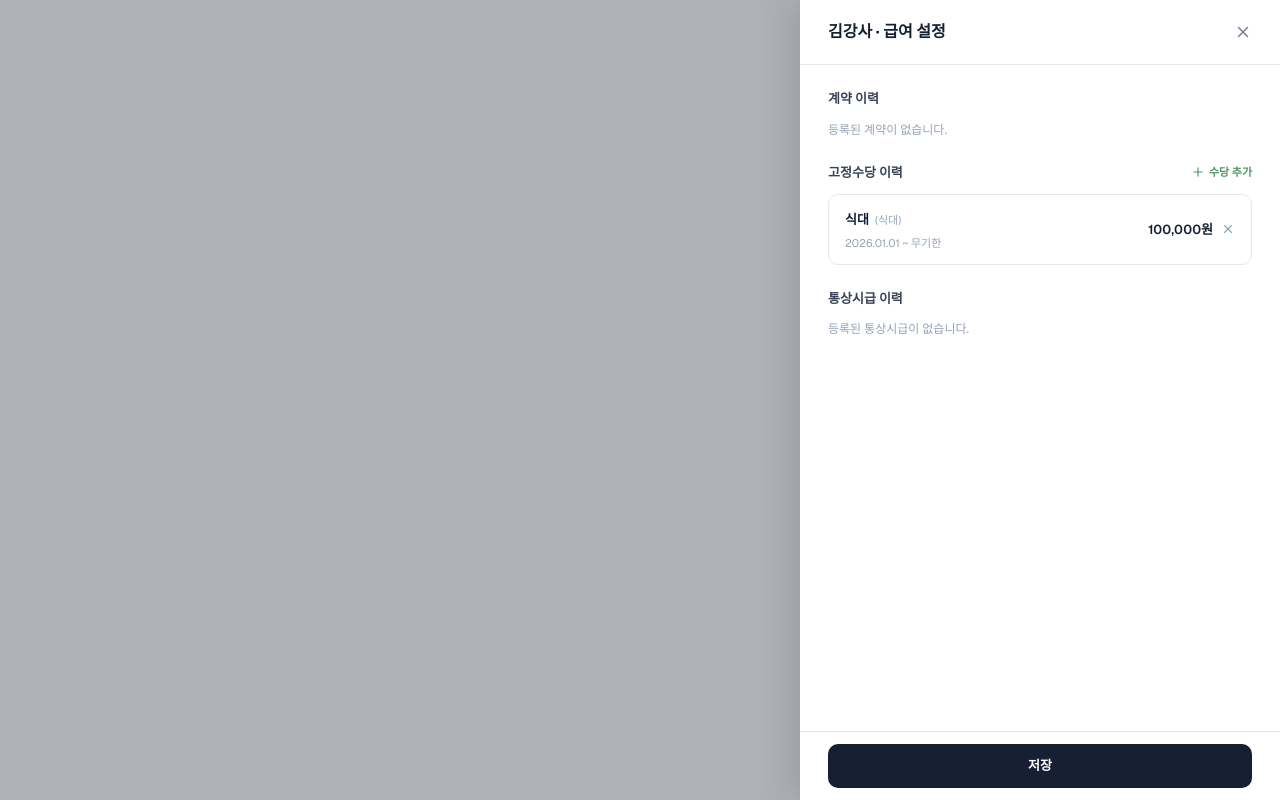
Scenario: PayrollCompensationDetail › 수당명과 금액을 입력하고 추가하면 목록에 새 수당이 노출된다
Click the button "수당 추가" at (1221, 172), box [1191,164,1252,180]
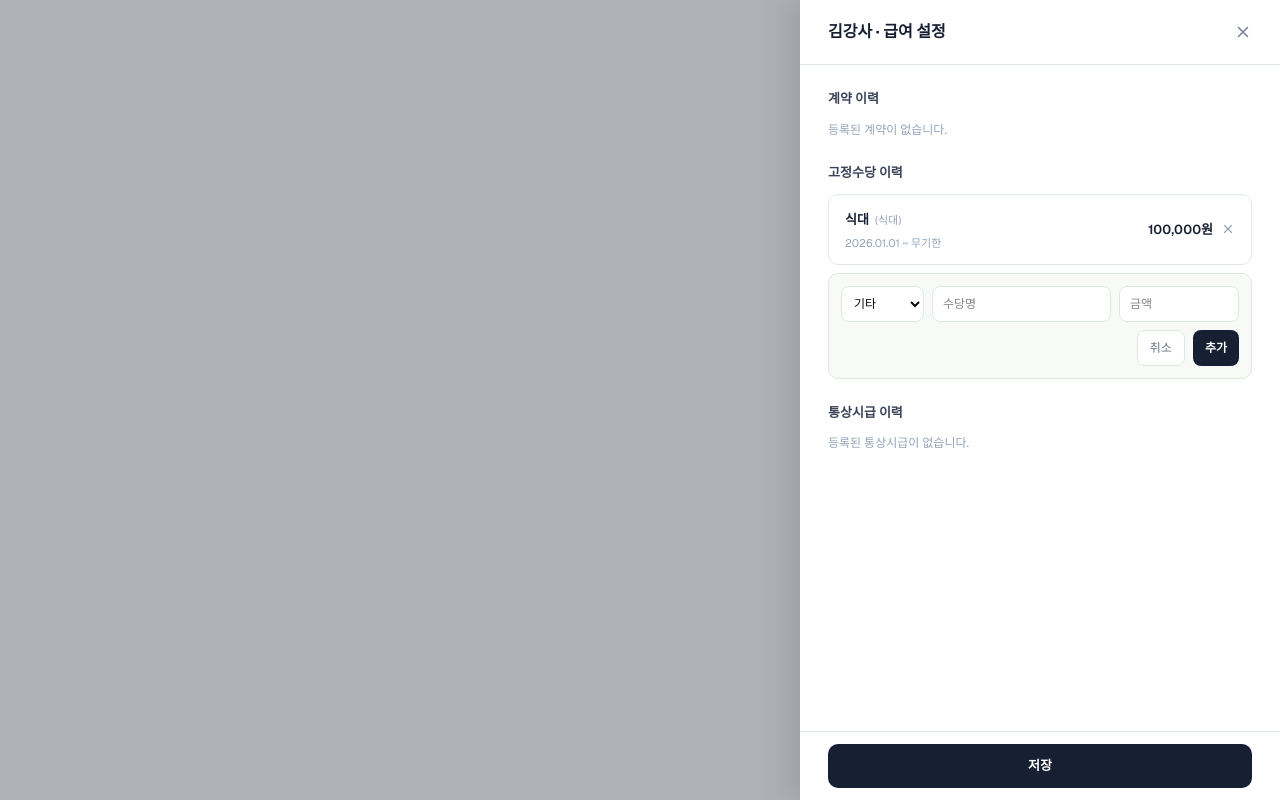
Type "교통비" into the field with placeholder "수당명" at (1022, 304), box [932,286,1111,322]
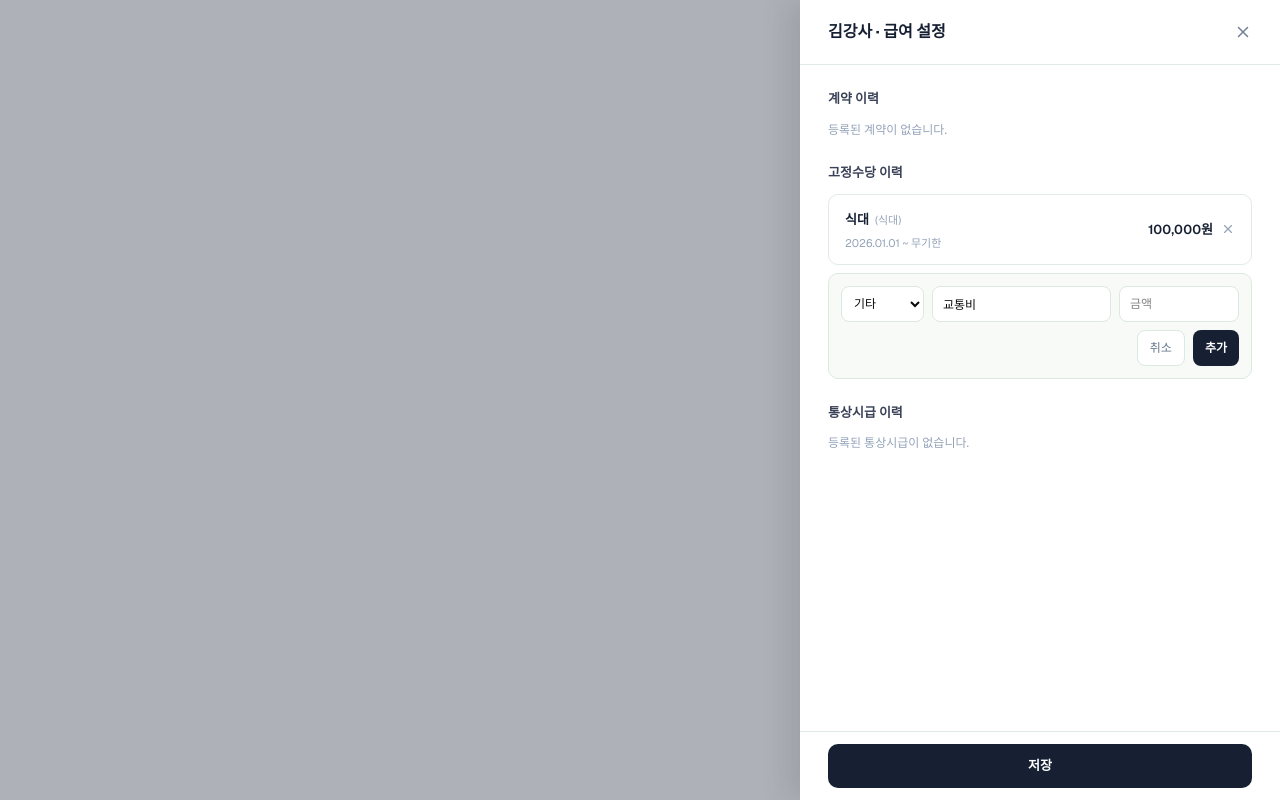
Type "50000" into the number field with placeholder "금액" at (1179, 304), box [1119,286,1239,322]
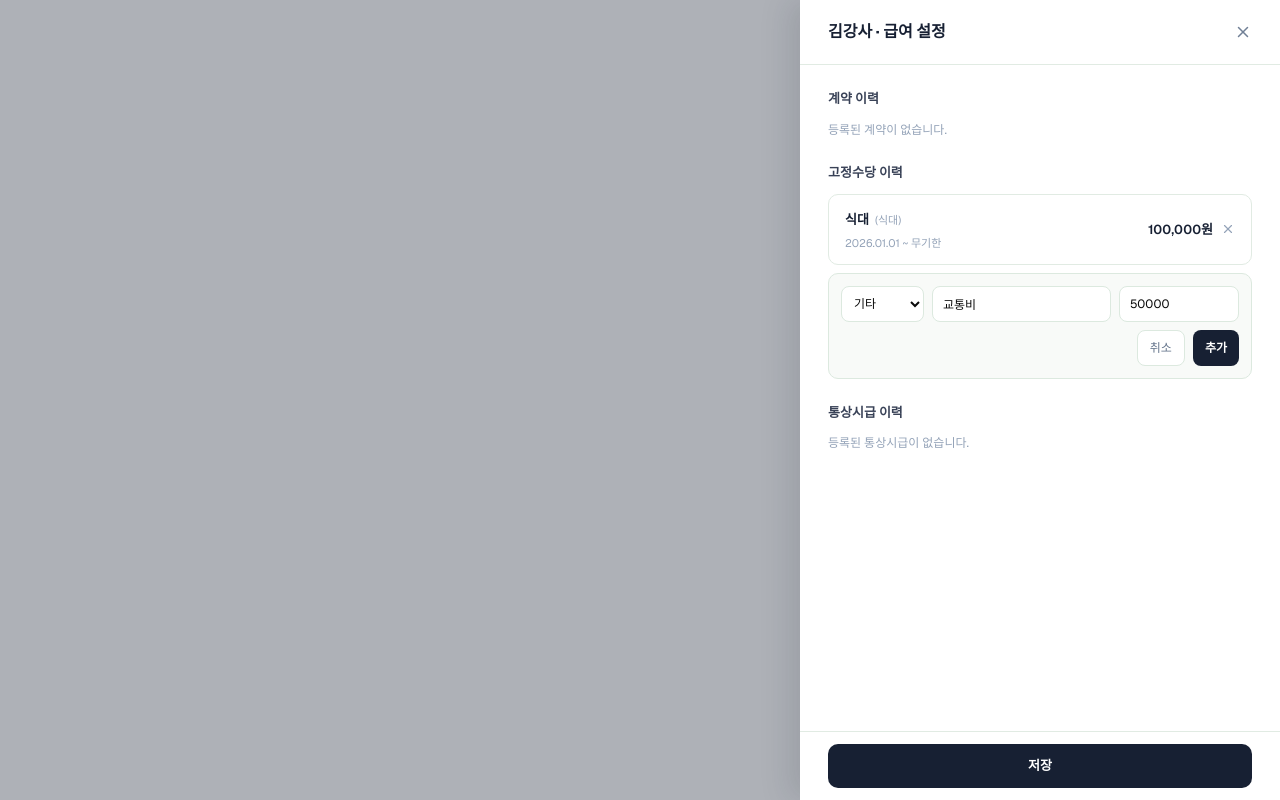
Click the button "추가" at (1216, 348), box [1193,330,1239,366]
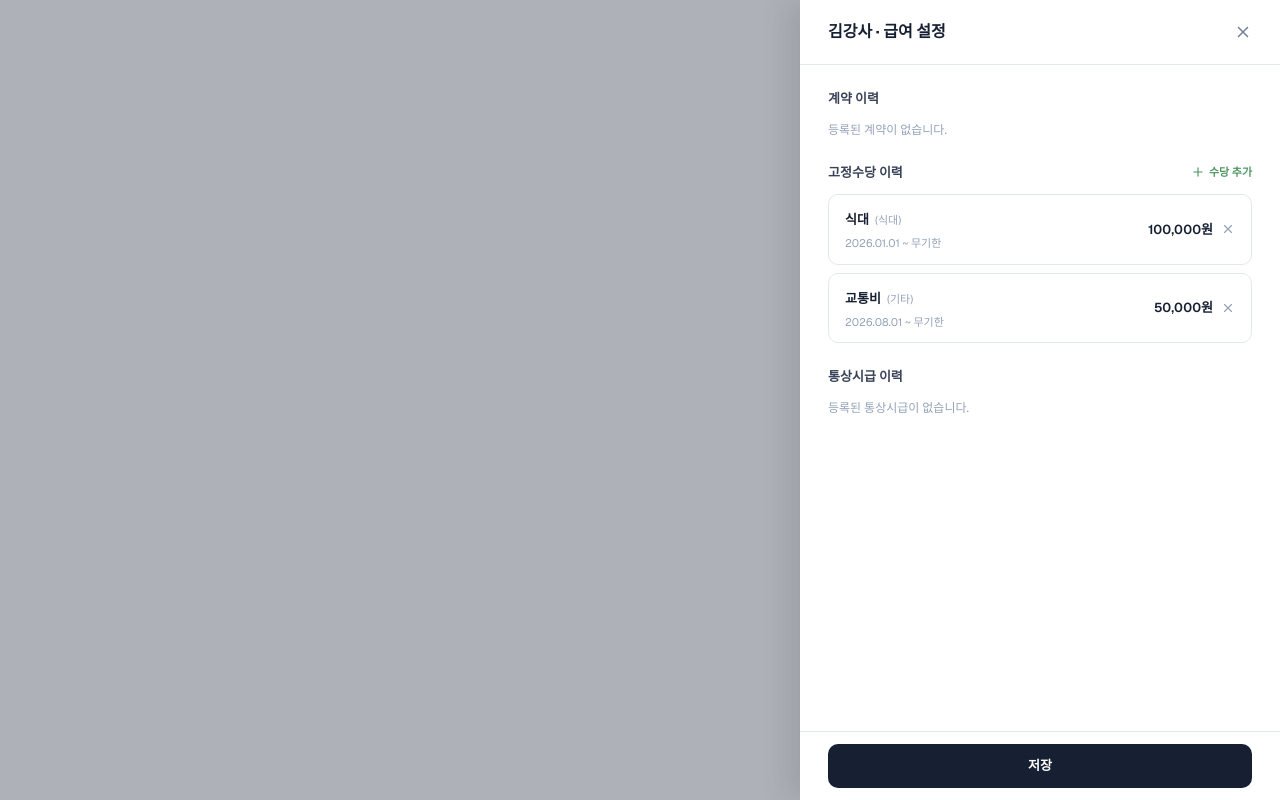
Check: the text "교통비" is shown, box [845,290,881,306]
Check: the field with placeholder "수당명" is gone
